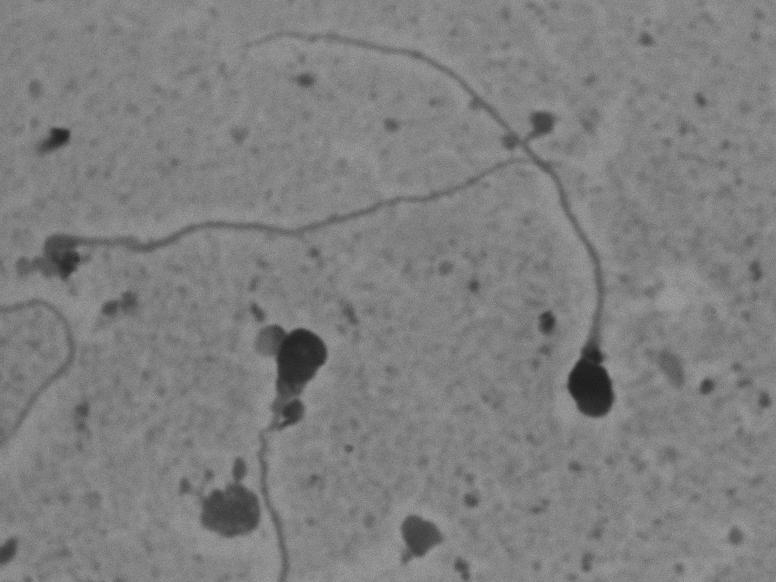Abnormal: (217, 18, 627, 428), (23, 152, 504, 297), (198, 304, 347, 574)
